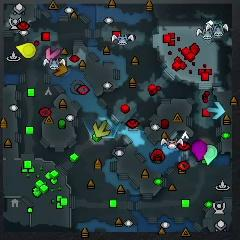p2: (203, 144, 218, 165)
p3: (191, 139, 208, 162)
p4: (15, 43, 37, 60)
x1: (46, 47, 61, 61)
x2: (92, 120, 110, 138)
x3: (207, 101, 226, 119)
x5: (52, 59, 68, 78)
